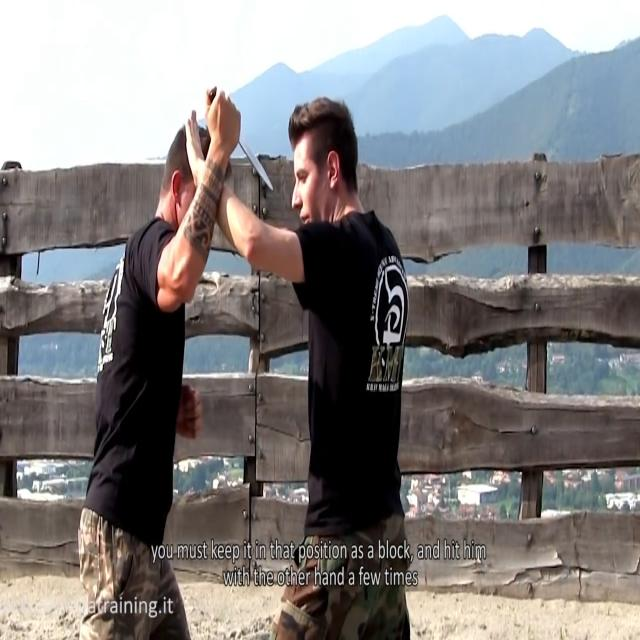knife: (238, 133, 278, 197)
